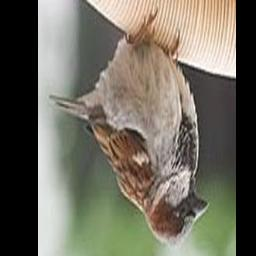Sparrow: (49, 10, 210, 248)
